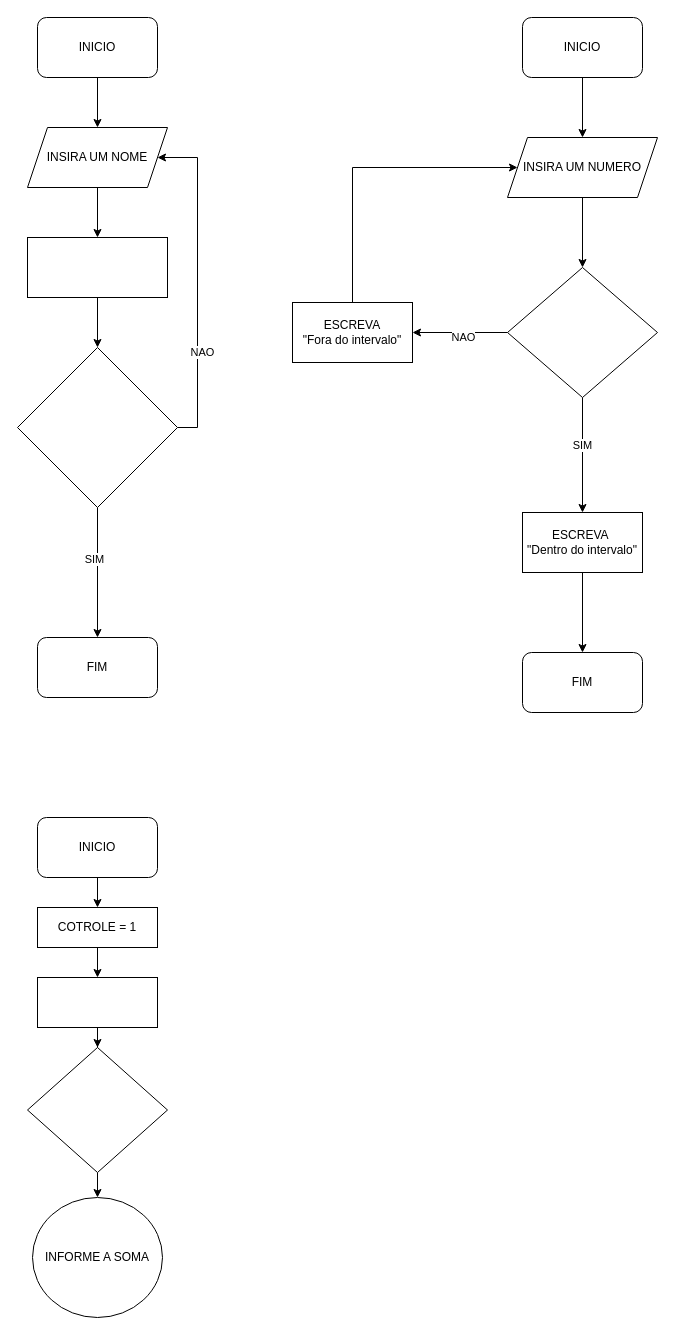
The diagram is 675 pixels wide and 1335 high, and some of its shapes have lost their labels. The centre of each missing label's shape, as x and y in pixels:
"IMPRIMA A FRAZE ''Olá fulano''" goes at pixel 97 267.
"O numero de vezes que foi imprimido foi igual a 50" goes at pixel 97 427.
"O NUMERO ESTA ENTRE 1 E 100" goes at pixel 582 332.
"SE CONTROLE FOR MENOR QUE 11" goes at pixel 97 1109.
"SOMATORIA = 0" goes at pixel 97 1002.
